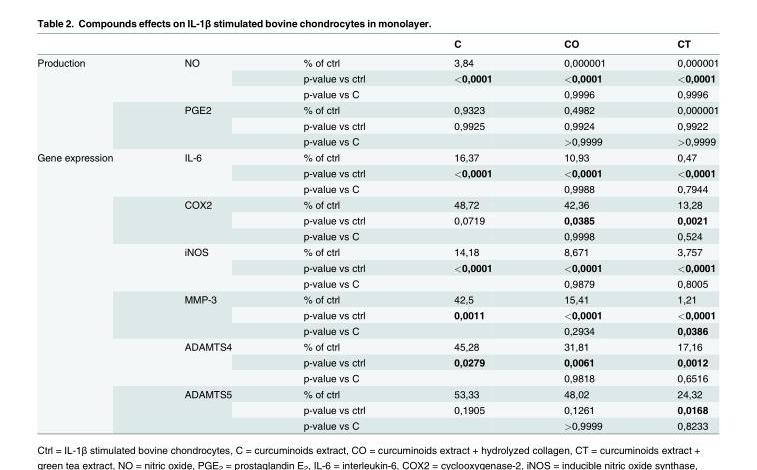table: (36, 37, 718, 431)
table column: (266, 37, 408, 431), (147, 37, 266, 431), (408, 37, 527, 431), (527, 37, 640, 431), (36, 37, 147, 431), (640, 37, 718, 431)
table column header: (36, 37, 718, 52)
table row: (36, 52, 718, 69), (36, 69, 718, 85), (36, 85, 718, 101), (36, 101, 718, 117), (36, 117, 718, 133), (36, 133, 718, 149), (36, 164, 718, 180), (36, 180, 718, 196), (36, 211, 718, 227), (36, 227, 718, 243), (36, 243, 718, 259), (36, 259, 718, 275), (36, 290, 718, 306), (36, 306, 718, 322), (36, 322, 718, 338), (36, 353, 718, 369), (36, 369, 718, 385), (36, 385, 718, 401), (36, 401, 718, 417), (36, 37, 718, 52), (36, 149, 718, 164), (36, 196, 718, 211), (36, 275, 718, 290), (36, 338, 718, 353), (36, 417, 718, 431)
table spanning cell: (36, 149, 147, 431), (36, 52, 147, 149), (147, 52, 266, 101), (147, 101, 266, 149), (147, 290, 266, 338), (147, 149, 266, 196), (147, 196, 266, 243), (147, 243, 266, 290), (147, 338, 266, 385), (147, 385, 266, 431)
